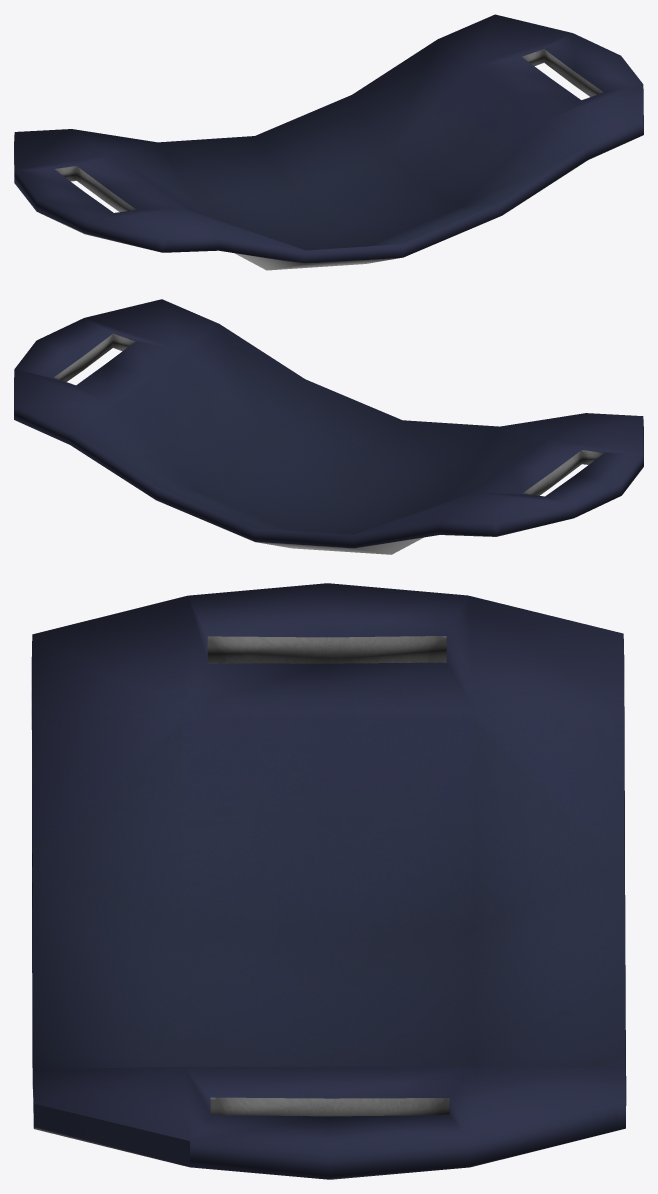
Rendered from frl_apartment_kitchen_utensil_05.glb.
The picture shows the model from 3 angles, top to bottom: view 1: azimuth 30°, elevation 25°; view 2: azimuth 150°, elevation 25°; view 3: azimuth 270°, elevation 25°; orthographic projection. The views are drawn at different scales.
Visible parts, largest first — view 1: frl_apartment_kitchen_utensil_05; view 2: frl_apartment_kitchen_utensil_05; view 3: frl_apartment_kitchen_utensil_05.
Part boxes in pixels (bbox=[...]): frl_apartment_kitchen_utensil_05: bbox=[14, 14, 643, 270]; frl_apartment_kitchen_utensil_05: bbox=[14, 299, 643, 554]; frl_apartment_kitchen_utensil_05: bbox=[31, 583, 626, 1179].
Size of the model in its own units: 0.685 by 0.1293 by 0.3013.
Materials: 1 (1 with a texture image).
